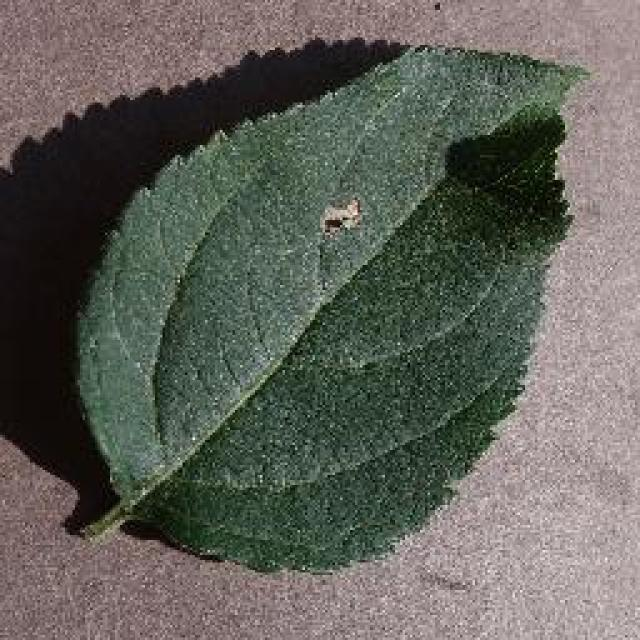Apple___healthy: (63, 39, 598, 581)
